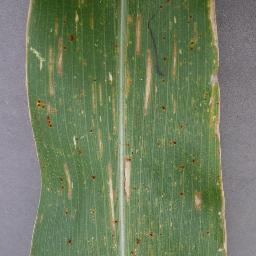Gray_Leaf_Spot: (206, 55, 224, 151), (215, 151, 231, 256), (21, 0, 34, 98), (105, 159, 120, 241), (46, 41, 65, 96), (104, 66, 118, 137), (205, 0, 222, 55), (121, 142, 136, 202), (51, 11, 79, 41), (141, 45, 153, 114), (35, 97, 58, 130), (56, 161, 74, 203), (130, 228, 157, 256), (126, 6, 140, 56), (186, 10, 201, 55), (123, 60, 135, 113), (171, 34, 183, 82), (89, 78, 103, 114), (95, 124, 105, 160), (71, 134, 86, 157), (33, 38, 43, 69), (192, 188, 206, 209), (113, 33, 121, 58), (33, 211, 44, 228), (77, 53, 89, 68), (157, 0, 173, 11), (165, 137, 180, 147), (158, 101, 169, 113), (90, 10, 96, 32), (86, 172, 99, 182), (177, 162, 186, 176), (76, 89, 87, 99), (175, 189, 185, 199), (178, 121, 188, 131), (88, 206, 98, 215), (188, 158, 200, 165), (159, 32, 168, 41), (204, 227, 212, 237), (64, 209, 72, 218), (162, 53, 168, 62), (67, 238, 75, 244)
